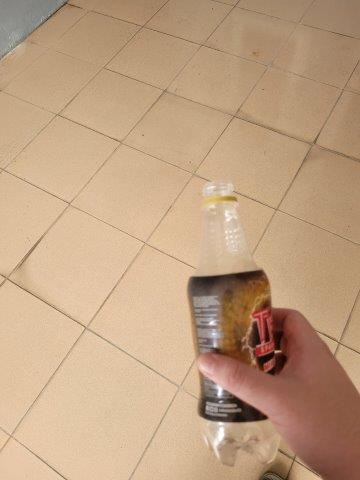botolplastik: (190, 180, 281, 468)
